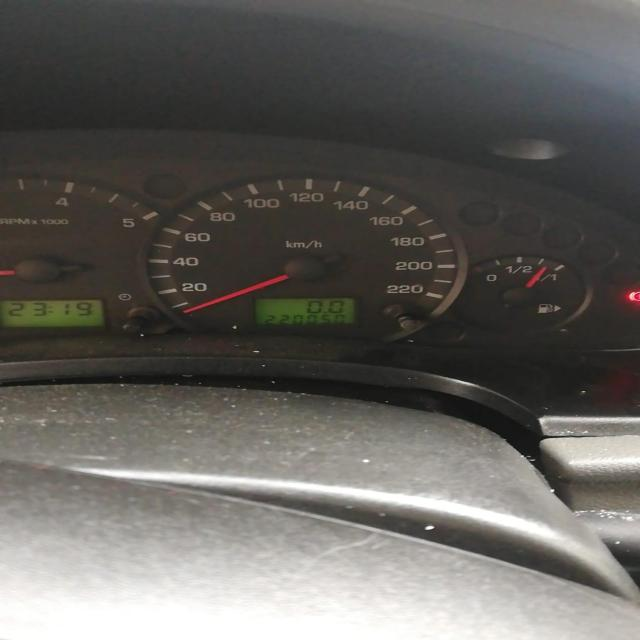odometer: (251, 296, 356, 326)
